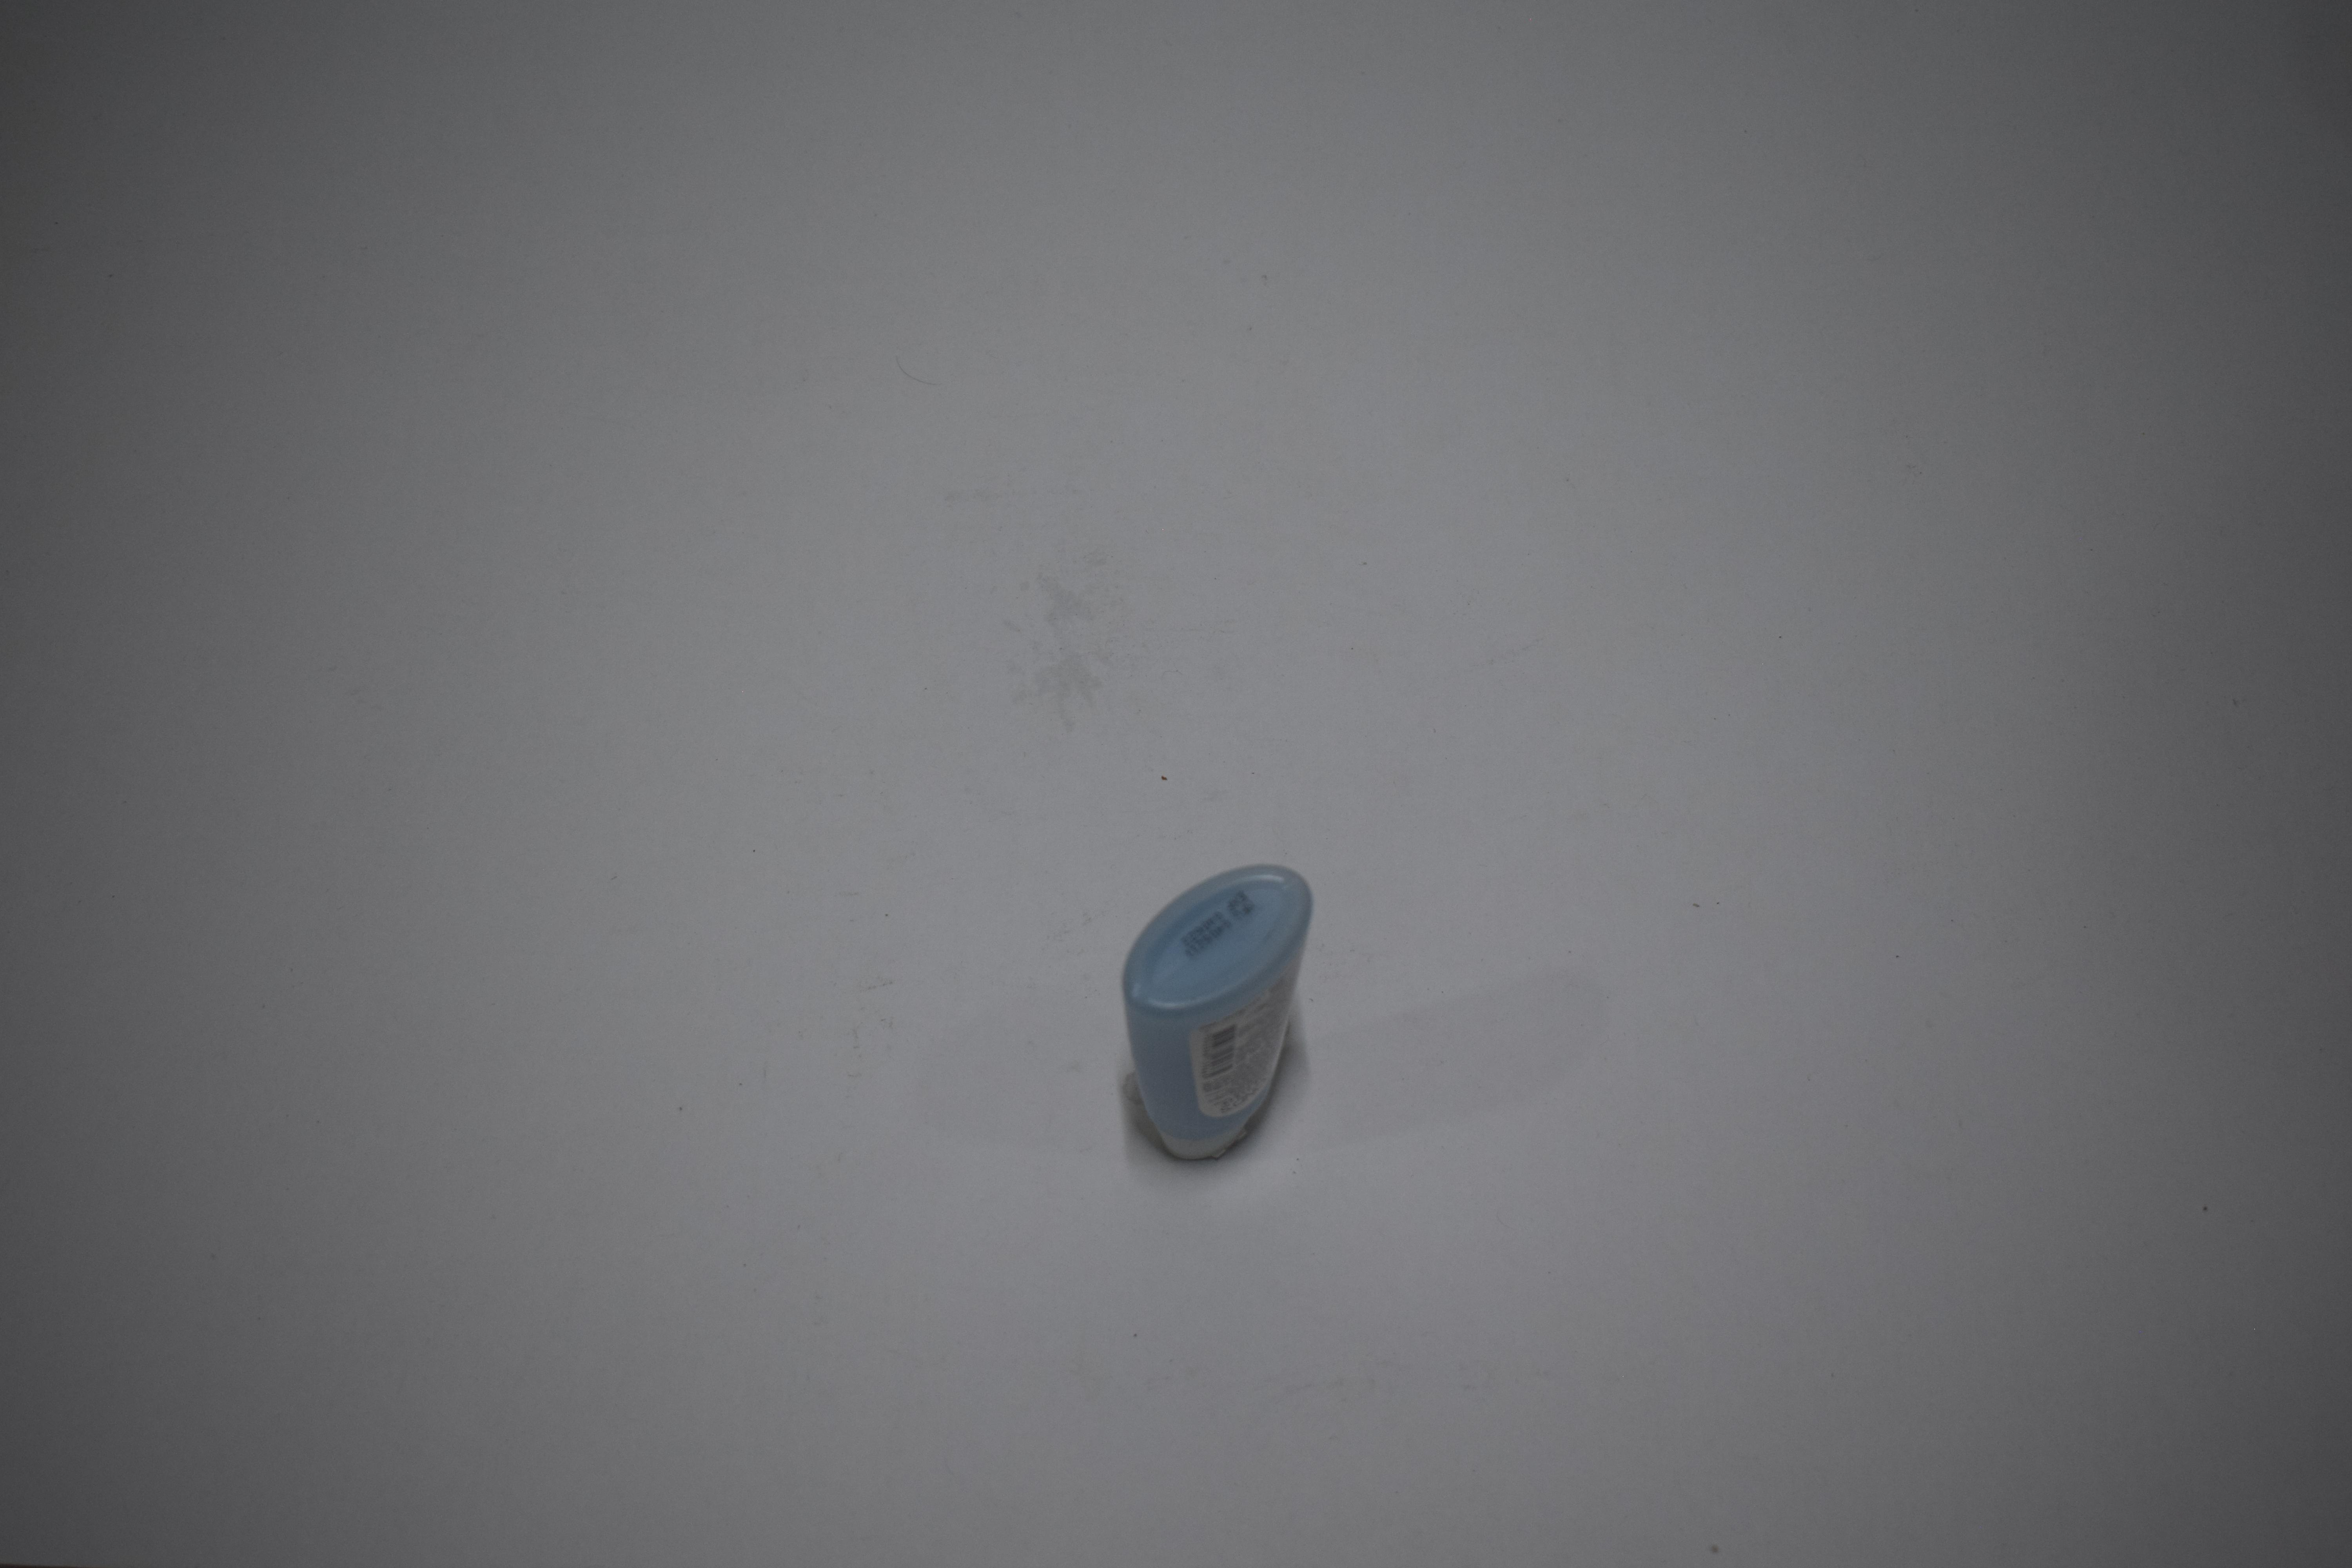bottle: (0, 854, 133, 1171)
